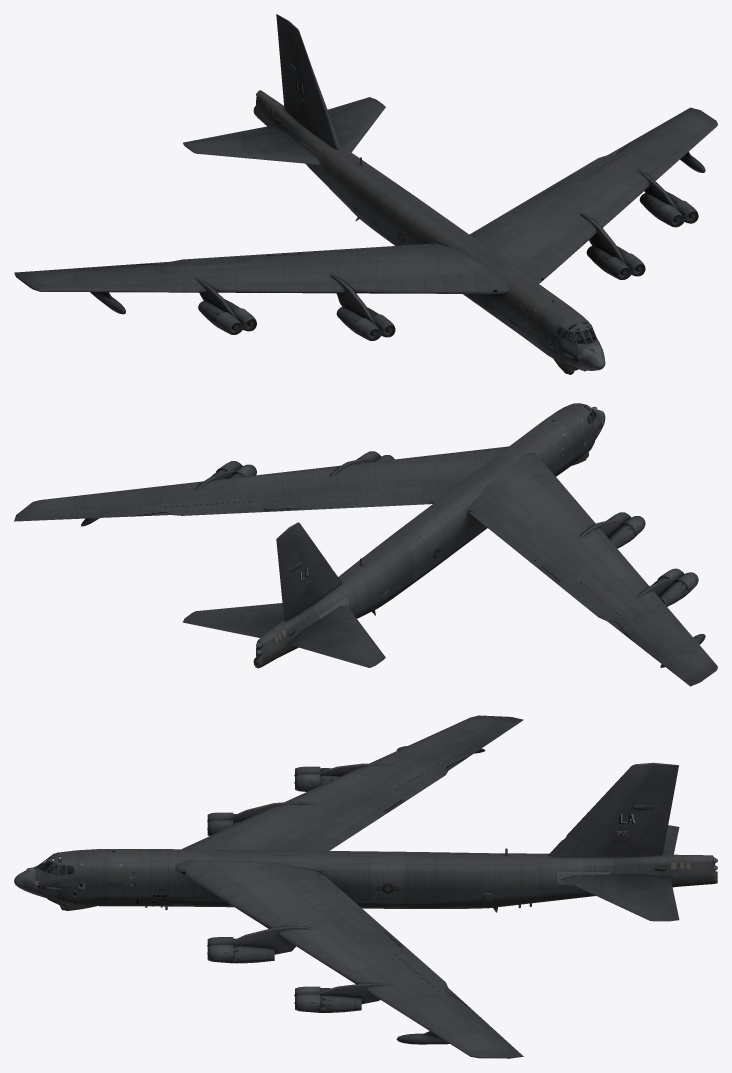
File: B-52H_Stratofortress_highpoly.dat.obj
The picture shows the model from 3 angles, top to bottom: view 1: azimuth 30°, elevation 25°; view 2: azimuth 150°, elevation 25°; view 3: azimuth 270°, elevation 25°; orthographic projection. The views are drawn at different scales.
Parts seen in each view (by area): view 1: B-52H_LOD0_default, B-52H_ElevatorR01_default, B-52H_ElevatorL01_default, B-52H_BrakeR01_default, B-52H_BrakeL01_default; view 2: B-52H_LOD0_default, B-52H_ElevatorR01_default, B-52H_ElevatorL01_default, B-52H_BrakeR01_default, B-52H_BrakeL01_default, B-52H_FlapL01_default, B-52H_FlapR01_default, B-52H_AileronL01_default, B-52H_AileronR01_default, B-52H_RudderL01_default; view 3: B-52H_LOD0_default, B-52H_ElevatorL01_default, B-52H_BrakeL01_default, B-52H_BrakeR01_default, B-52H_RudderL01_default, B-52H_FlapR01_default, B-52H_FlapL01_default.
Boxes of the visible parts, left/top/right/bottom form: B-52H_LOD0_default: left=14, top=14, right=717, bottom=374; B-52H_ElevatorR01_default: left=183, top=125, right=320, bottom=164; B-52H_ElevatorL01_default: left=327, top=97, right=385, bottom=152; B-52H_BrakeR01_default: left=161, top=260, right=251, bottom=272; B-52H_BrakeL01_default: left=579, top=153, right=637, bottom=183; B-52H_LOD0_default: left=14, top=403, right=717, bottom=686; B-52H_ElevatorR01_default: left=287, top=605, right=385, bottom=667; B-52H_ElevatorL01_default: left=182, top=603, right=283, bottom=637; B-52H_BrakeR01_default: left=579, top=577, right=638, bottom=621; B-52H_BrakeL01_default: left=161, top=492, right=251, bottom=508; B-52H_FlapL01_default: left=300, top=499, right=430, bottom=510; B-52H_FlapR01_default: left=471, top=510, right=545, bottom=567; B-52H_AileronL01_default: left=171, top=507, right=263, bottom=515; B-52H_AileronR01_default: left=557, top=580, right=611, bottom=621; B-52H_RudderL01_default: left=276, top=538, right=291, bottom=620; B-52H_LOD0_default: left=14, top=715, right=717, bottom=1058; B-52H_ElevatorL01_default: left=561, top=874, right=679, bottom=921; B-52H_BrakeL01_default: left=378, top=954, right=442, bottom=995; B-52H_BrakeR01_default: left=377, top=758, right=442, bottom=790; B-52H_RudderL01_default: left=650, top=765, right=678, bottom=855; B-52H_FlapR01_default: left=317, top=810, right=387, bottom=850; B-52H_FlapL01_default: left=315, top=875, right=387, bottom=931.
Bounding box in the file's own units: 55.96 × 11.23 × 48.74.
